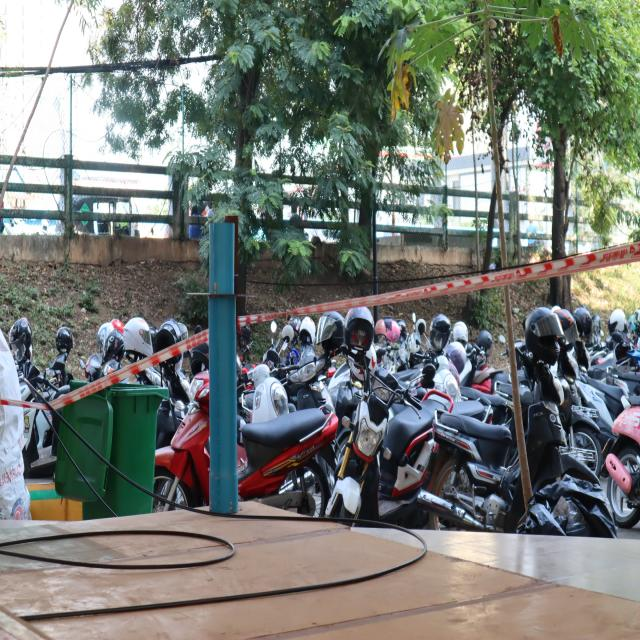pole: (183, 217, 262, 374)
